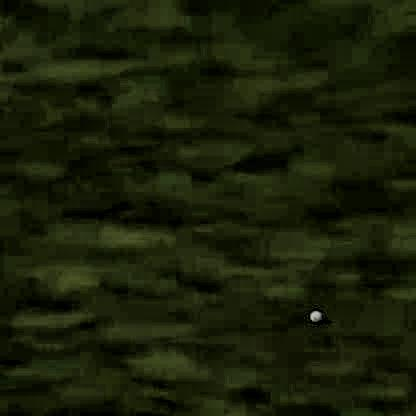golfball: (304, 308, 323, 324)
